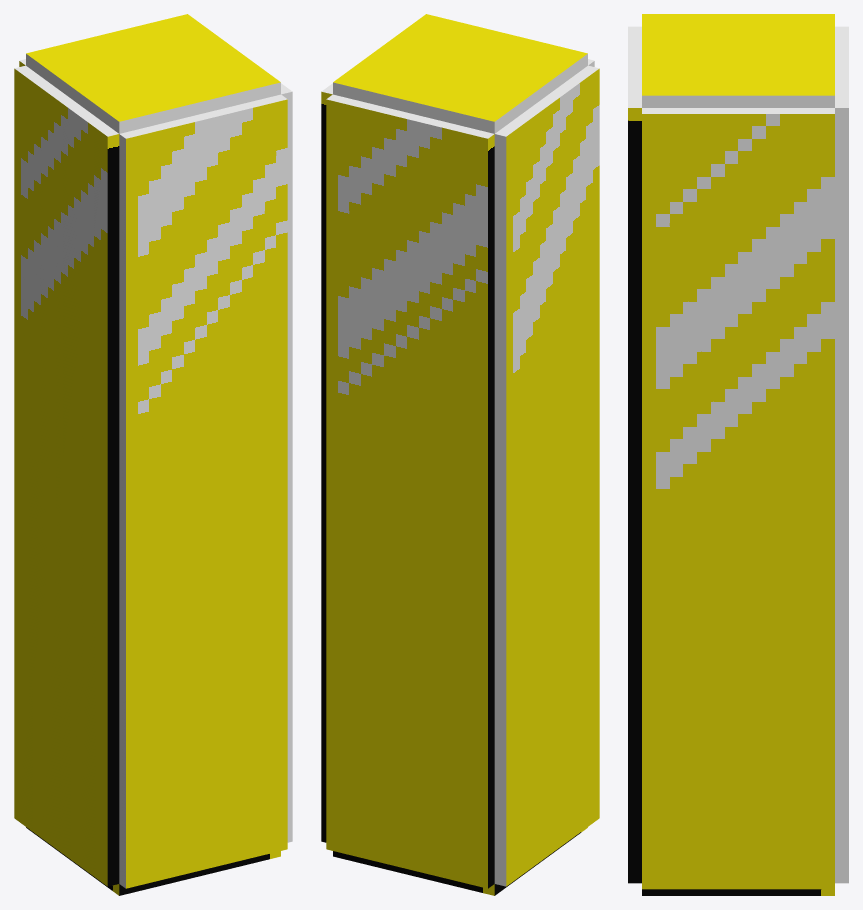
File: cmy_crystal_yao.fezao.glb
The picture shows the model from 3 angles, left to right: view 1: azimuth 30°, elevation 25°; view 2: azimuth 150°, elevation 25°; view 3: azimuth 270°, elevation 25°; orthographic projection. The views are drawn at different scales.
Parts seen in each view (by area): view 1: CMY_CRYSTAL_YAO; view 2: CMY_CRYSTAL_YAO; view 3: CMY_CRYSTAL_YAO.
Boxes of the visible parts, left/top/right/bottom form: CMY_CRYSTAL_YAO: left=14, top=14, right=292, bottom=895; CMY_CRYSTAL_YAO: left=321, top=14, right=599, bottom=895; CMY_CRYSTAL_YAO: left=628, top=14, right=848, bottom=895.
Size of the model in its own units: 1 by 4 by 1.
Materials: 1 (1 with a texture image).
